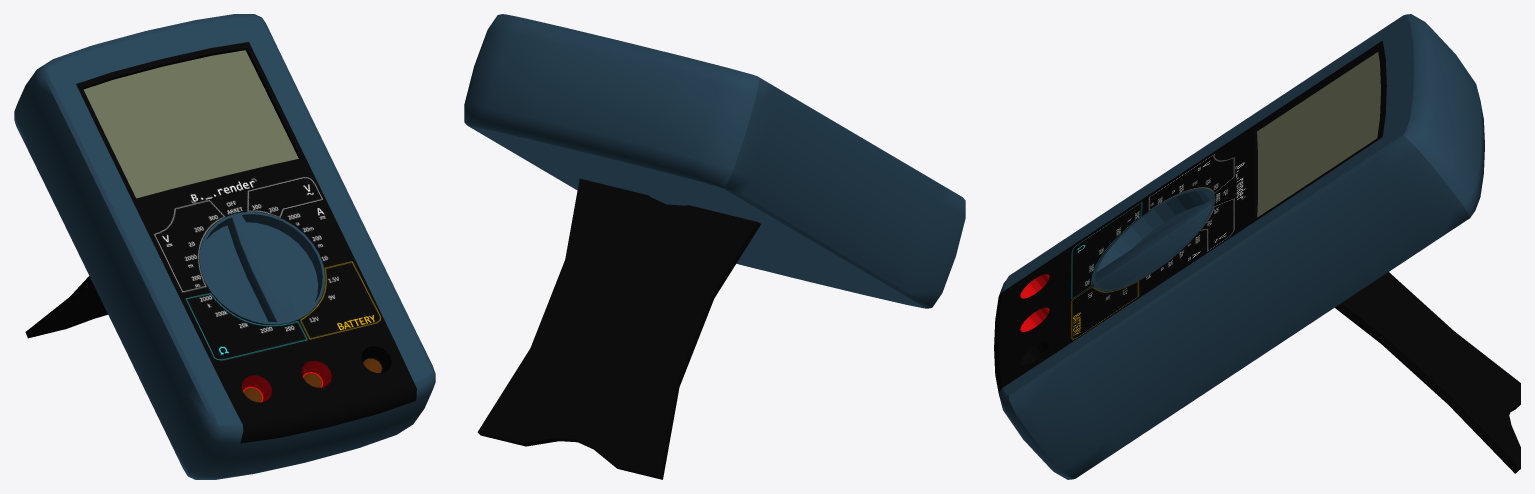
File: station_meter.glb
The picture shows the model from 3 angles, left to right: view 1: azimuth 30°, elevation 25°; view 2: azimuth 150°, elevation 25°; view 3: azimuth 270°, elevation 25°; orthographic projection. The views are drawn at different scales.
Visible parts, largest first — view 1: Cube_2, Cylinder.001_1, Cube.001_0, stand_3; view 2: Cube_2, stand_3; view 3: Cube_2, stand_3, Cube.001_0, Cylinder.001_1.
Part boxes in pixels (left/top/right/bottom): Cube_2: left=14, top=14, right=435, bottom=479; Cylinder.001_1: left=199, top=212, right=325, bottom=324; Cube.001_0: left=227, top=215, right=296, bottom=322; stand_3: left=25, top=276, right=107, bottom=338; Cube_2: left=464, top=14, right=965, bottom=308; stand_3: left=477, top=178, right=760, bottom=479; Cube_2: left=994, top=14, right=1484, bottom=479; stand_3: left=1335, top=272, right=1520, bottom=473; Cube.001_0: left=1095, top=198, right=1215, bottom=288; Cylinder.001_1: left=1093, top=188, right=1214, bottom=291.
Size of the model in its own units: 0.0754 by 0.0993 by 0.13.
Materials: 5 (1 with a texture image).
